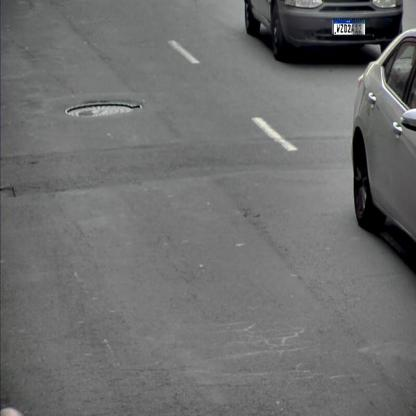PlacaM: (334, 19, 366, 35)
